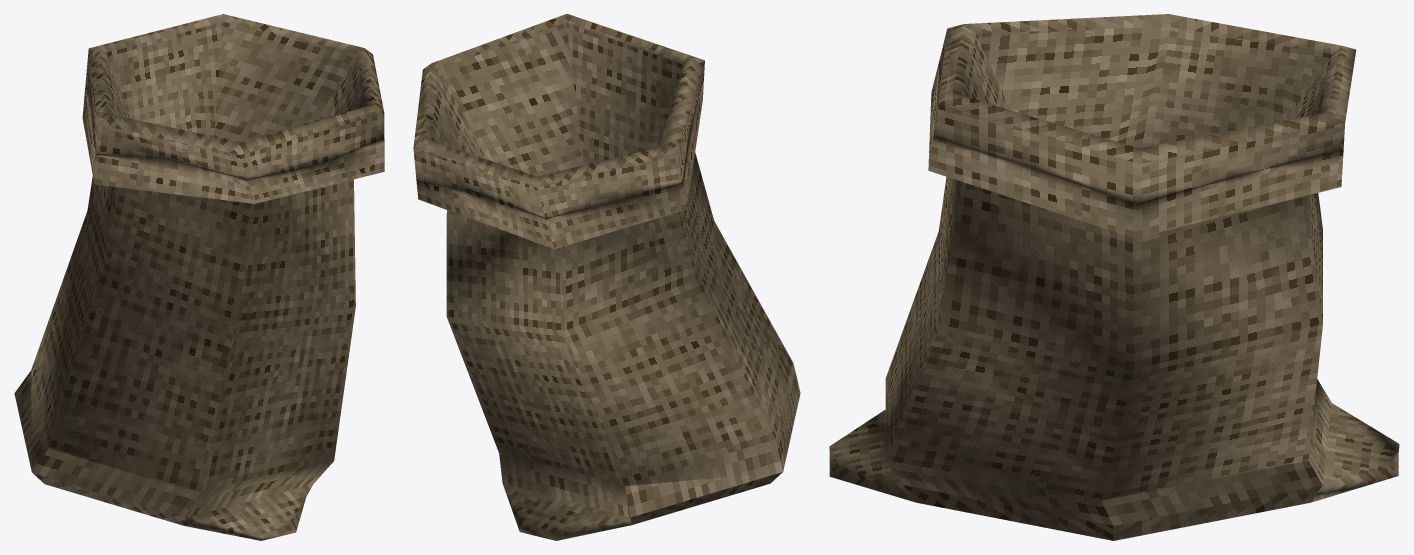
Rendered from jutesack_open_alt.glb.
3 renders of one model, left to right at view 1: azimuth 30°, elevation 25°; view 2: azimuth 150°, elevation 25°; view 3: azimuth 270°, elevation 25°, orthographic. The views are drawn at different scales.
Visible parts, largest first — view 1: jutesack_open_alt; view 2: jutesack_open_alt; view 3: jutesack_open_alt.
Boxes of the visible parts, x1,y1,x2,y2 form: jutesack_open_alt: (14,14,384,540); jutesack_open_alt: (413,14,800,540); jutesack_open_alt: (829,14,1399,540).
Size of the model in its own units: 0.863 by 0.8489 by 0.9495.
Materials: 1 (1 with a texture image).
